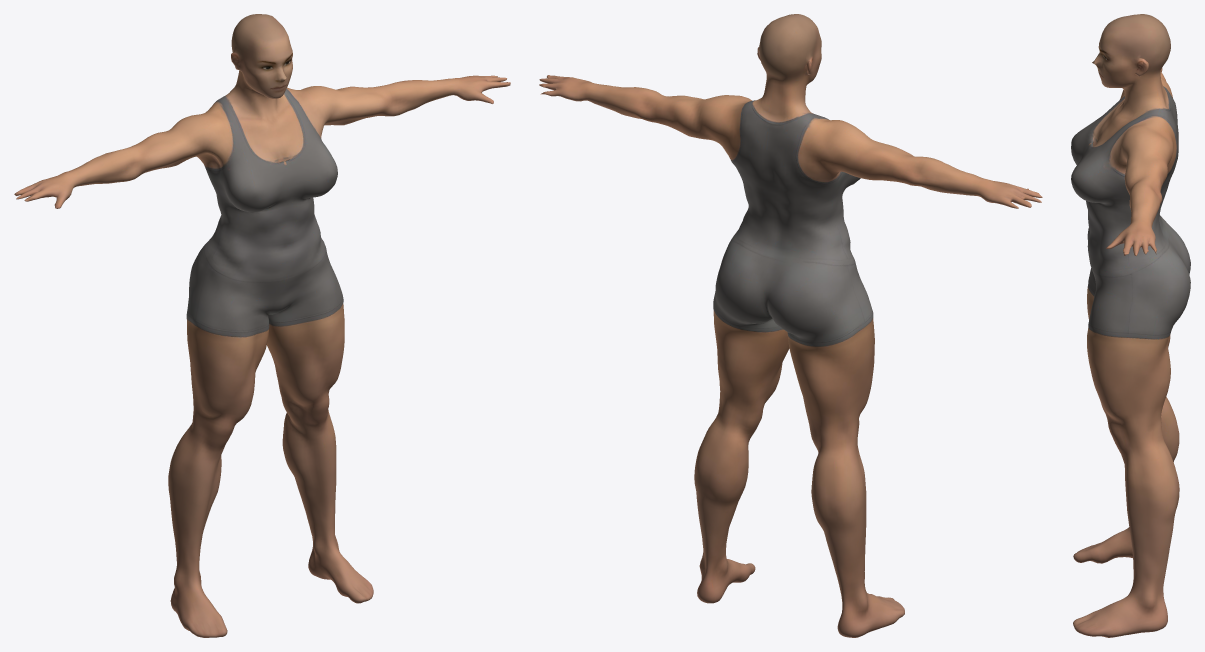
The model's file is corpo_f.glb.
The picture shows the model from 3 angles, left to right: view 1: azimuth 30°, elevation 25°; view 2: azimuth 150°, elevation 25°; view 3: azimuth 270°, elevation 25°; orthographic projection. The views are drawn at different scales.
Visible parts, largest first — view 1: tripo_node_b05c4a00; view 2: tripo_node_b05c4a00; view 3: tripo_node_b05c4a00.
Part boxes in pixels (x1,y1,x2,y2): tripo_node_b05c4a00: (14,14,510,637); tripo_node_b05c4a00: (539,14,1042,637); tripo_node_b05c4a00: (1071,14,1190,637).
Bounding box in the file's own units: 88.22 × 99.92 × 18.73.
Materials: 1 (1 with a texture image).
